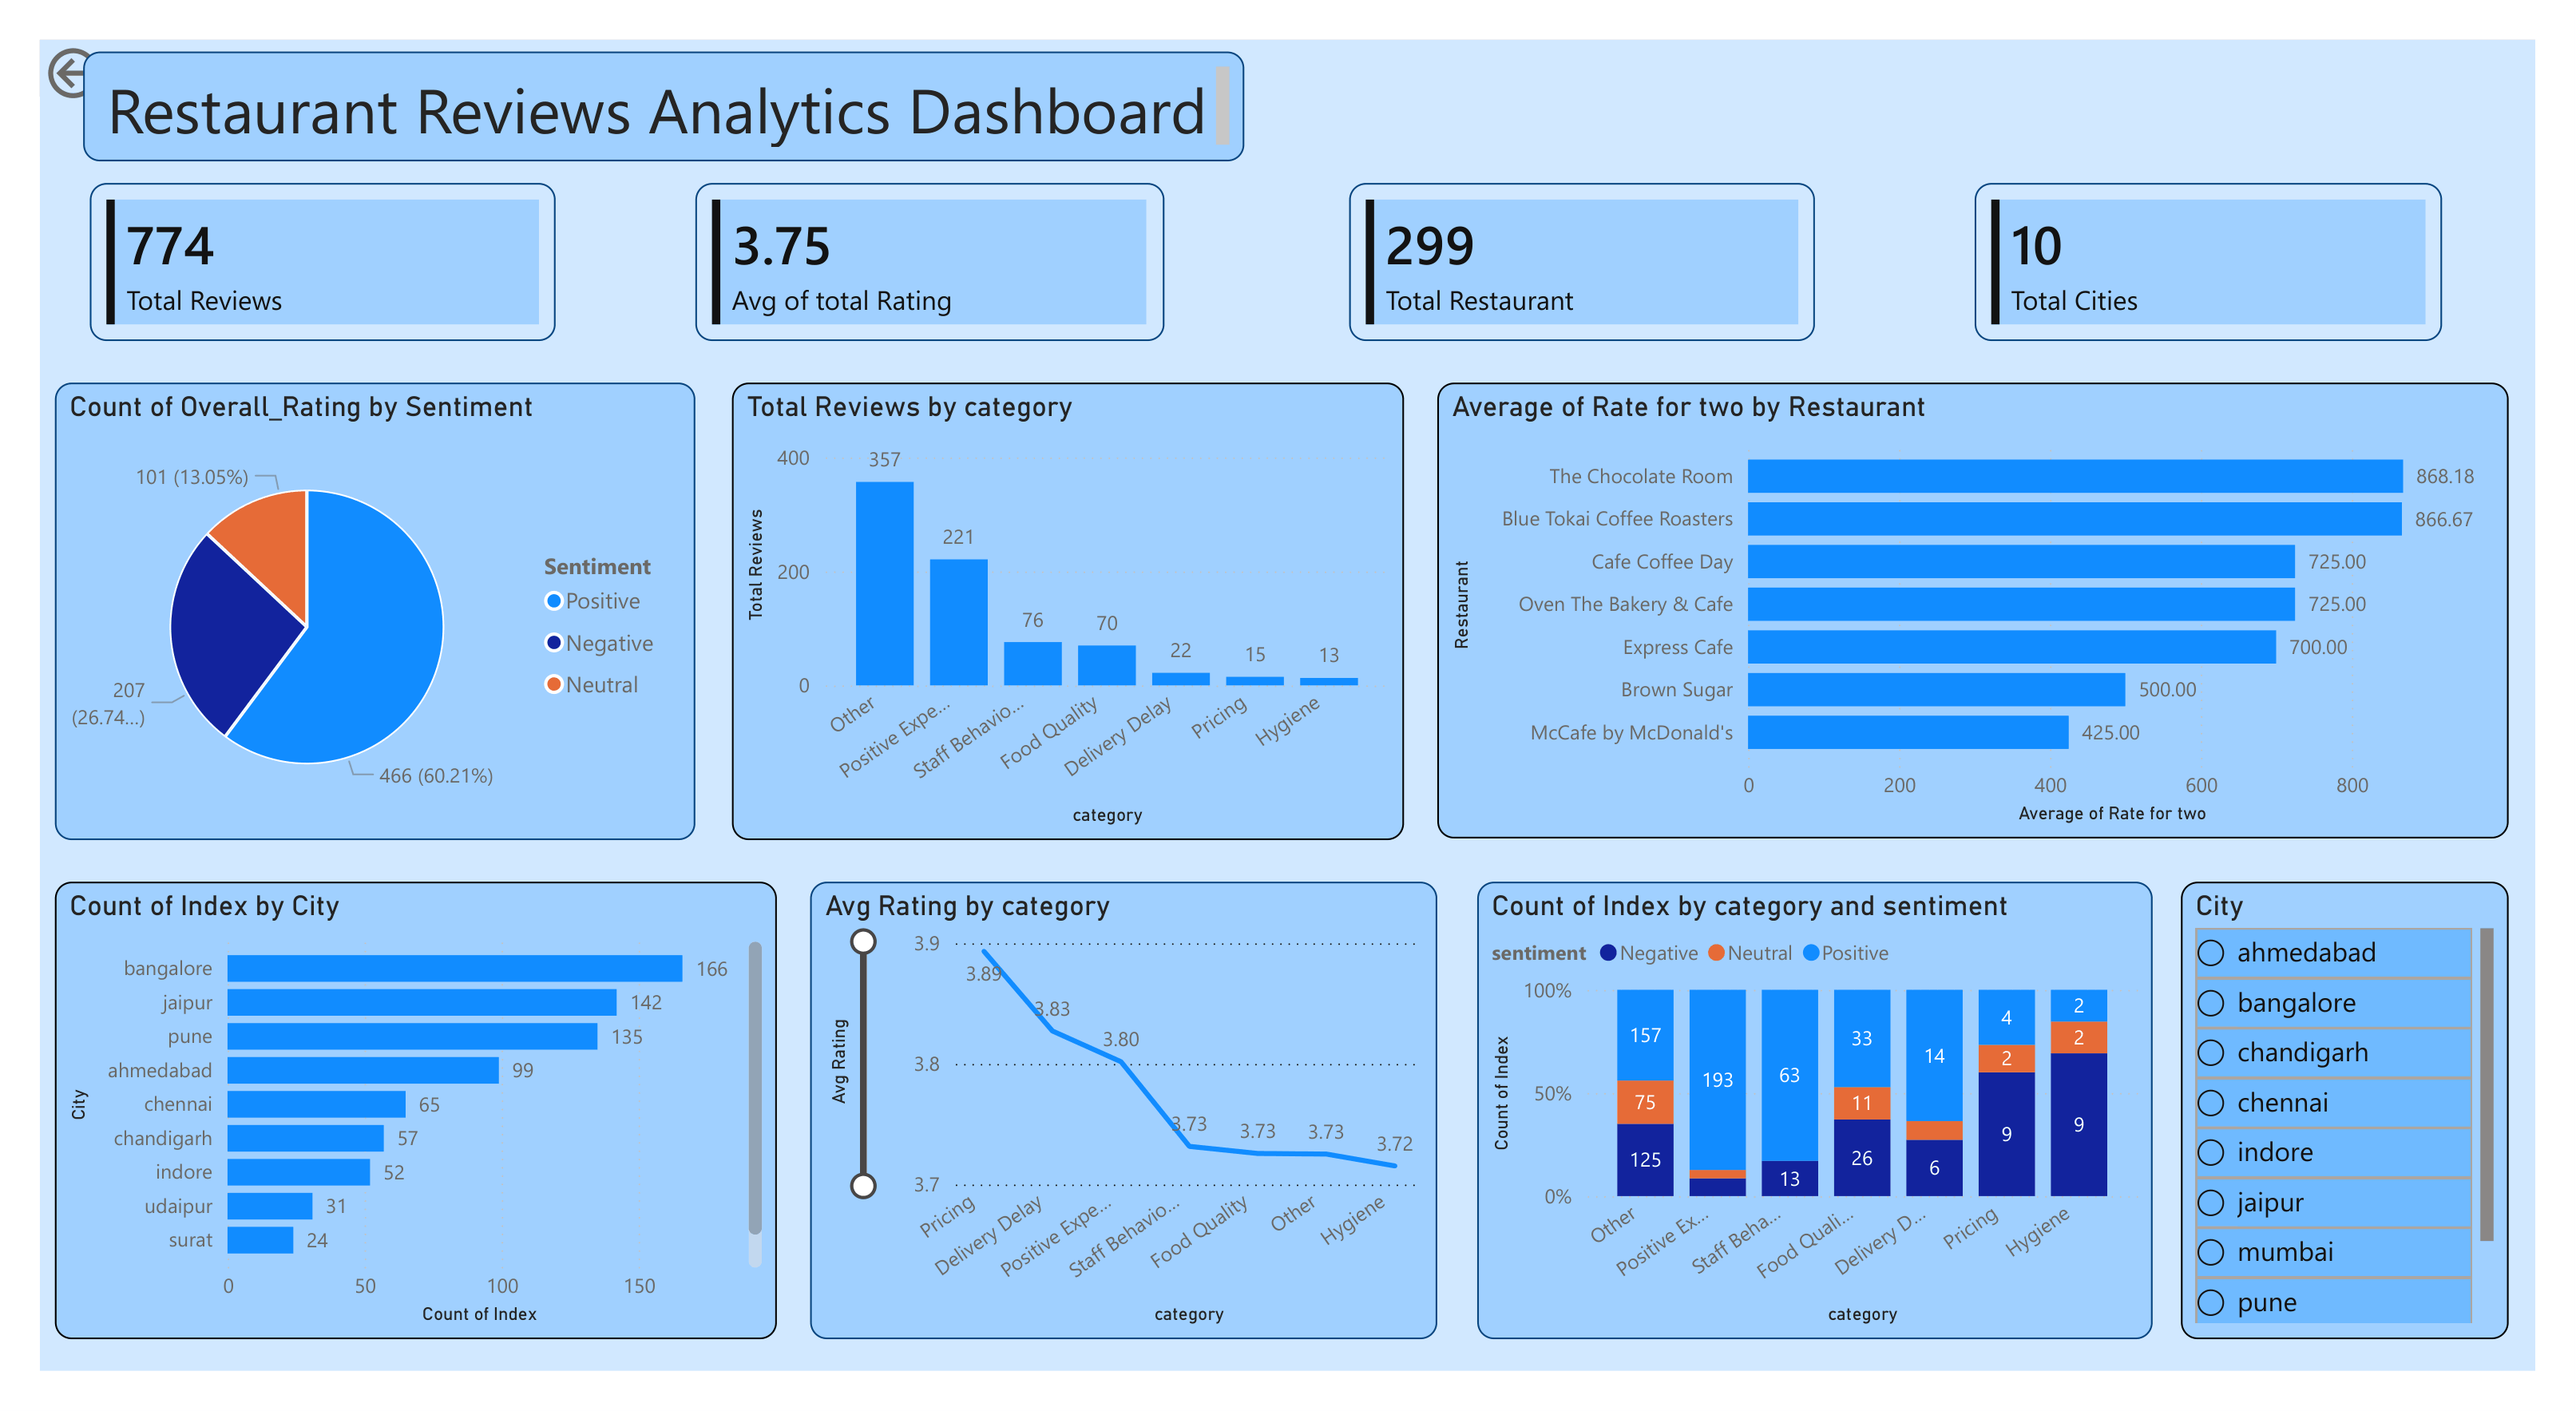

The dashboard page shown, as its layout file describes it:
{"tool":"powerbi","page":{"name":"Dashboard for Restaurant dataset ","canvas":[1500,800],"ordinal":0},"visuals":[{"type":"cardVisual","fields":{"Data":["CountNonNull(restaurant_reviews_final1.Index)"]},"box":[30,85.7,280,95.7],"z":0},{"type":"cardVisual","fields":{"Data":["Avg(restaurant_reviews_final1.Overall_Rating)"]},"box":[394.3,85.7,281.4,95.7],"z":1000},{"type":"cardVisual","fields":{"Data":["Count(restaurant_reviews_final1.Name)"]},"box":[787.1,85.7,280,95.7],"z":2000},{"type":"cardVisual","fields":{"Data":["Count(restaurant_reviews_final1.City)"]},"box":[1162.9,85.7,281.4,95.7],"z":3000},{"type":"pieChart","fields":{"Category":["restaurant_reviews_final1.sentiment"],"Y":["CountNonNull(restaurant_reviews_final1.Overall_Rating)"]},"box":[8.6,205.7,385.7,275.7],"z":4000},{"type":"columnChart","fields":{"Category":["restaurant_reviews_final1.category"],"Y":["restaurant_reviews_final1.Total Reviews"]},"box":[415.7,205.7,404.3,275.7],"z":5000},{"type":"barChart","fields":{"Category":["restaurant_reviews_final1.City"],"Y":["Count(restaurant_reviews_final1.Index)"]},"box":[8.6,505.7,434.3,275.7],"z":6000},{"type":"actionButton","box":[0,0,100,40],"z":7000},{"type":"barChart","fields":{"Category":["restaurant_reviews_final1.Name"],"Y":["Avg(restaurant_reviews_final1.Rate for two)"]},"box":[840,205.7,644.3,274.3],"z":8000},{"type":"hundredPercentStackedColumnChart","fields":{"Category":["restaurant_reviews_final1.category"],"Series":["restaurant_reviews_final1.sentiment"],"Y":["Count(restaurant_reviews_final1.Index)"]},"box":[864.3,505.7,405.7,275.7],"z":9000},{"type":"lineChart","fields":{"Y":["restaurant_reviews_final1.Avg Rating"],"Category":["restaurant_reviews_final1.category"]},"box":[462.9,505.7,377.1,275.7],"z":10000},{"type":"textbox","box":[25.7,7.1,698.6,65.7],"z":11000},{"type":"listSlicer","fields":{"Values":["restaurant_reviews_final1.City"]},"box":[1287.1,505.7,197.1,275.7],"z":12000}]}

Visuals, with their boxes in screenshot pixels (x1, y1, x2, y2):
cardVisual - CountNonNull(restaurant_reviews_final1.Index): l=129, t=187, r=587, b=343
cardVisual - Avg(restaurant_reviews_final1.Overall_Rating): l=724, t=187, r=1184, b=343
cardVisual - Count(restaurant_reviews_final1.Name): l=1366, t=187, r=1824, b=343
cardVisual - Count(restaurant_reviews_final1.City): l=1980, t=187, r=2439, b=343
pieChart - restaurant_reviews_final1.sentiment x CountNonNull(restaurant_reviews_final1.Overall_Rating): l=94, t=383, r=724, b=834
columnChart - restaurant_reviews_final1.category x restaurant_reviews_final1.Total Reviews: l=759, t=383, r=1420, b=834
barChart - restaurant_reviews_final1.City x Count(restaurant_reviews_final1.Index): l=94, t=873, r=804, b=1323
actionButton: l=81, t=47, r=244, b=113
barChart - restaurant_reviews_final1.Name x Avg(restaurant_reviews_final1.Rate for two): l=1452, t=383, r=2505, b=831
hundredPercentStackedColumnChart - restaurant_reviews_final1.category x restaurant_reviews_final1.sentiment: l=1492, t=873, r=2155, b=1323
lineChart - restaurant_reviews_final1.Avg Rating x restaurant_reviews_final1.category: l=837, t=873, r=1452, b=1323
textbox: l=122, t=58, r=1264, b=166
listSlicer - restaurant_reviews_final1.City: l=2183, t=873, r=2505, b=1323
